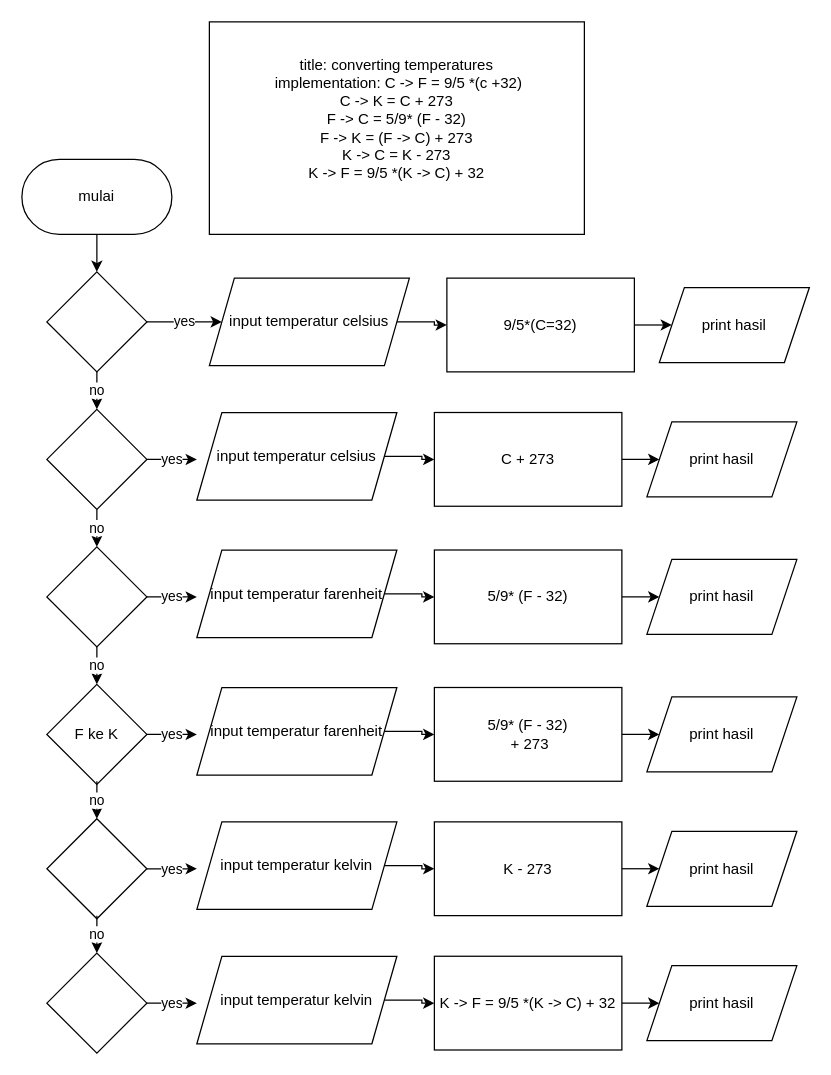
Some shapes in this 831 by 1075 pixel diagram are drawn without their labels. Each missing label, with the centre of its shape:
"C ke F" belongs at [96,321].
"C ke K" belongs at [96,458].
"F ke C" belongs at [96,596].
"K ke C" belongs at [96,868].
"K ke F" belongs at [96,1002].
